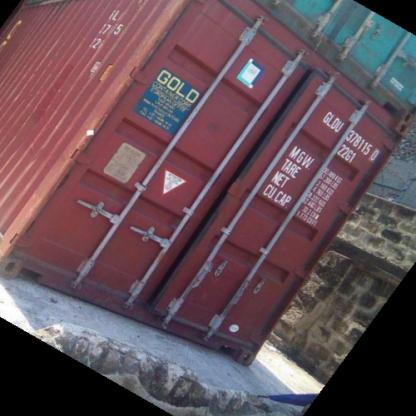Damage: (128, 3, 182, 78), (84, 65, 136, 137), (64, 282, 158, 316)
